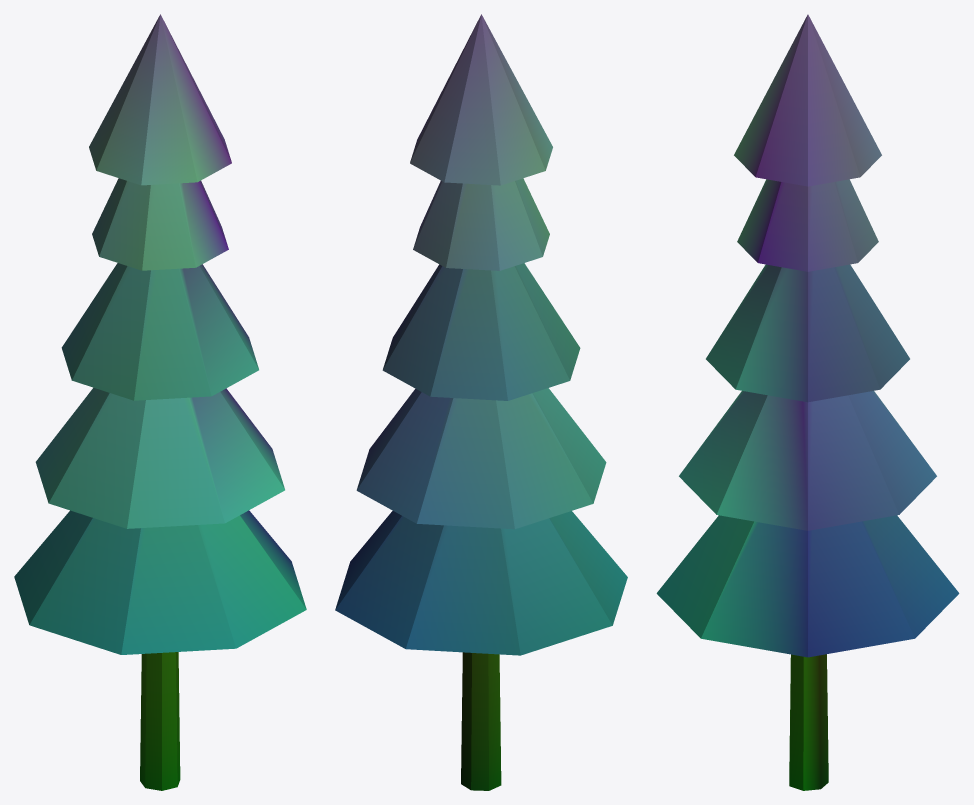
File: conifer_03.glb
3 renders of one model, left to right at view 1: azimuth 30°, elevation 25°; view 2: azimuth 150°, elevation 25°; view 3: azimuth 270°, elevation 25°, orthographic.
Visible parts, largest first — view 1: conifer_03; view 2: conifer_03; view 3: conifer_03.
Part boxes in pixels (bbox=[...]): conifer_03: bbox=[14, 14, 306, 790]; conifer_03: bbox=[335, 14, 627, 790]; conifer_03: bbox=[656, 14, 959, 790].
Bounding box in the file's own units: 2.04 × 5.71 × 2.04.
